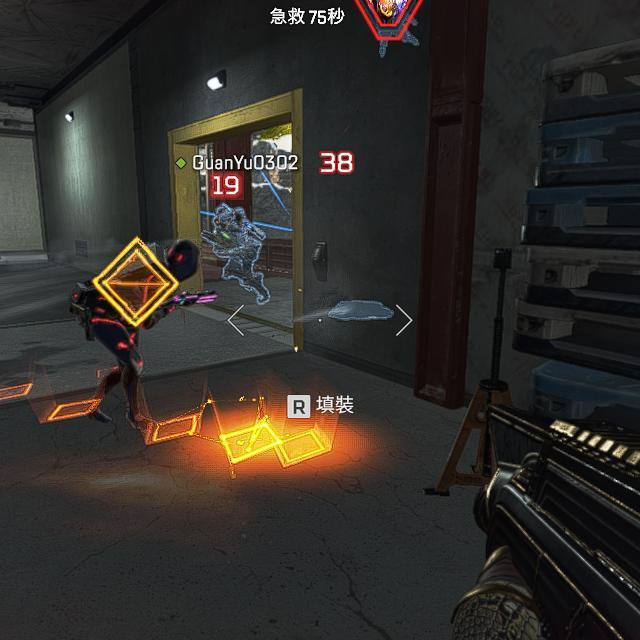avatar: (71, 234, 202, 435), (211, 201, 273, 305)
object: (91, 236, 181, 329)
